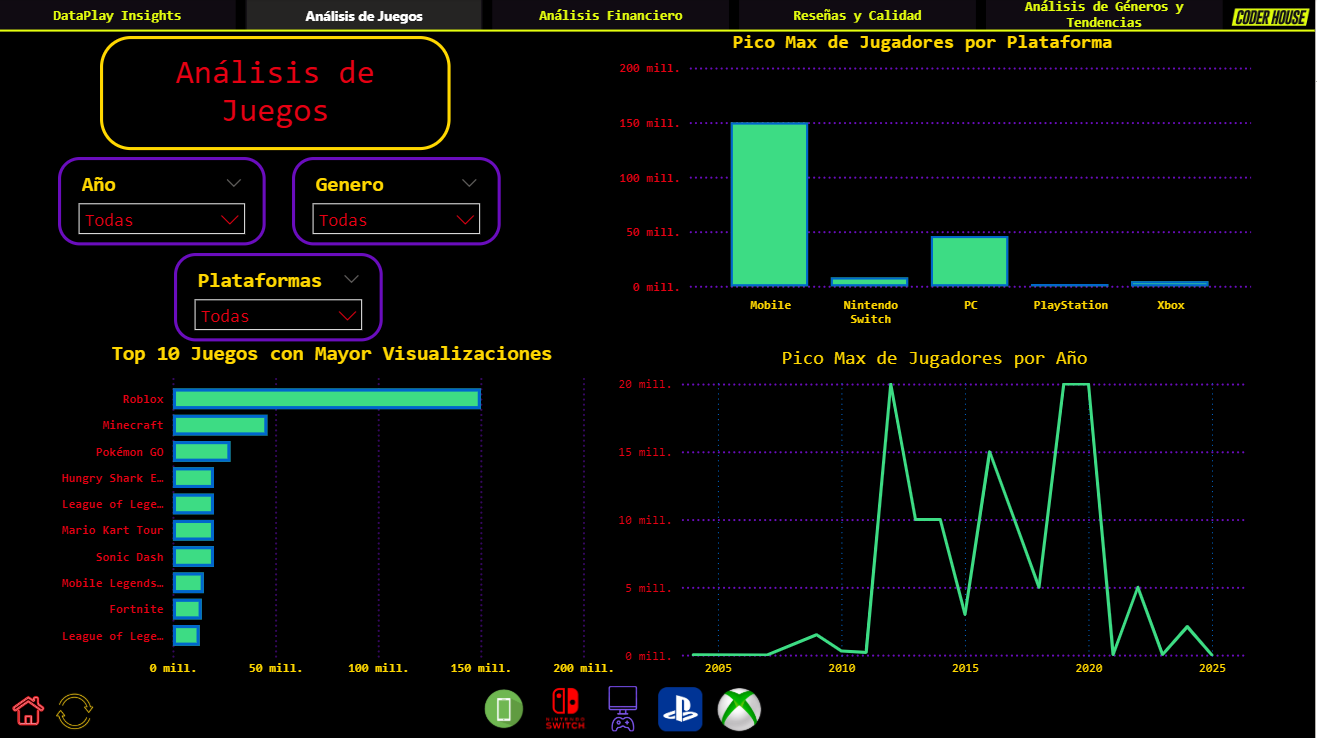

The page's visual inventory and layout, read from the dashboard file:
{"tool":"powerbi","page":{"name":"Análisis de Juegos","canvas":[1280,720],"ordinal":1},"visuals":[{"type":"textbox","box":[97.9,37.1,341.1,111.2],"z":0},{"type":"lineChart","title":"Pico Max de Jugadores por Año","fields":{"Y":["Z- Tabla Media.Pico Max de Jugadores"],"Category":["Tabla Calendario.Año"]},"box":[596.8,339.4,625.6,327.7],"z":1000},{"type":"image","box":[0,667.7,56.7,52.3],"z":2000},{"type":"image","box":[1192.6,0,87.8,36.4],"z":3000},{"type":"clusteredBarChart","title":"Top 10 Juegos con Mayor Visualizaciones","fields":{"Category":["Tabla Actualizada Normalizada.Titulo del Juego"],"Y":["Z- Tabla Media.Pico Max de Jugadores"]},"box":[28.8,334,574.3,334],"z":4000},{"type":"slicer","fields":{"Values":["Tabla Complementaria Reviews.Genero"]},"box":[284.7,154.2,203.2,86],"z":5000},{"type":"slicer","fields":{"Values":["Tabla Plataformas.Plataforma de Juego"]},"box":[170.6,248.4,203.4,85.5],"z":6000},{"type":"slicer","fields":{"Values":["Tabla Calendario.Año"]},"box":[57.8,154.2,201.7,86],"z":7000},{"type":"image","box":[50.5,667.7,46.1,52.3],"z":8000},{"type":"columnChart","title":"Pico Max de Jugadores por Plataforma","fields":{"Category":["Tabla Plataformas.Plataforma de Juego"],"Y":["B-Picos Medidas.Pico Max de Jugadores"]},"box":[574.3,32.4,649,295.2],"z":9000},{"type":"image","box":[460,664.3,62.1,54],"z":10000},{"type":"image","box":[578.8,664.3,56.7,54],"z":11000},{"type":"image","box":[522.1,664.3,56.7,53.1],"z":12000},{"type":"image","box":[635.5,665.2,55.8,53.1],"z":13000},{"type":"image","box":[691.3,665.2,57.6,53.1],"z":14000},{"type":"pageNavigator","box":[0,0,1192.2,33],"z":15000},{"type":"shape","box":[0,11.9,1279.7,40],"z":16000}]}

Visuals, with their boxes on the page's 1280x720 design canvas (x1, y1, x2, y2). These are canvas units, not pixel positions in the 1317x738 screenshot, which may show the page scaled, cropped or inside an application window:
textbox: pyautogui.locateOnScreen(98, 37, 439, 148)
"Pico Max de Jugadores por Año" lineChart: pyautogui.locateOnScreen(597, 339, 1222, 667)
image: pyautogui.locateOnScreen(0, 668, 57, 720)
image: pyautogui.locateOnScreen(1193, 0, 1280, 36)
"Top 10 Juegos con Mayor Visualizaciones" clusteredBarChart: pyautogui.locateOnScreen(29, 334, 603, 668)
slicer - Tabla Complementaria Reviews.Genero: pyautogui.locateOnScreen(285, 154, 488, 240)
slicer - Tabla Plataformas.Plataforma de Juego: pyautogui.locateOnScreen(171, 248, 374, 334)
slicer - Tabla Calendario.Año: pyautogui.locateOnScreen(58, 154, 260, 240)
image: pyautogui.locateOnScreen(50, 668, 97, 720)
"Pico Max de Jugadores por Plataforma" columnChart: pyautogui.locateOnScreen(574, 32, 1223, 328)
image: pyautogui.locateOnScreen(460, 664, 522, 718)
image: pyautogui.locateOnScreen(579, 664, 636, 718)
image: pyautogui.locateOnScreen(522, 664, 579, 717)
image: pyautogui.locateOnScreen(636, 665, 691, 718)
image: pyautogui.locateOnScreen(691, 665, 749, 718)
pageNavigator: pyautogui.locateOnScreen(0, 0, 1192, 33)
shape: pyautogui.locateOnScreen(0, 12, 1280, 52)
